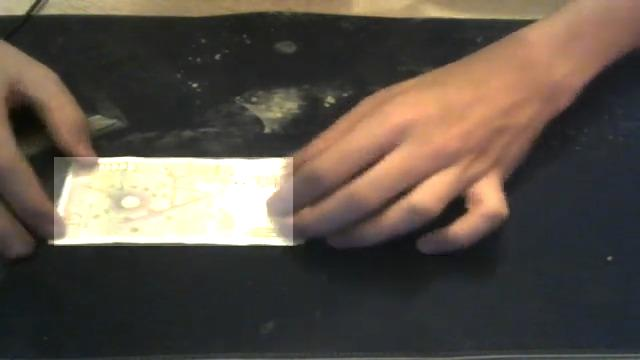10leva: (54, 157, 293, 246)
